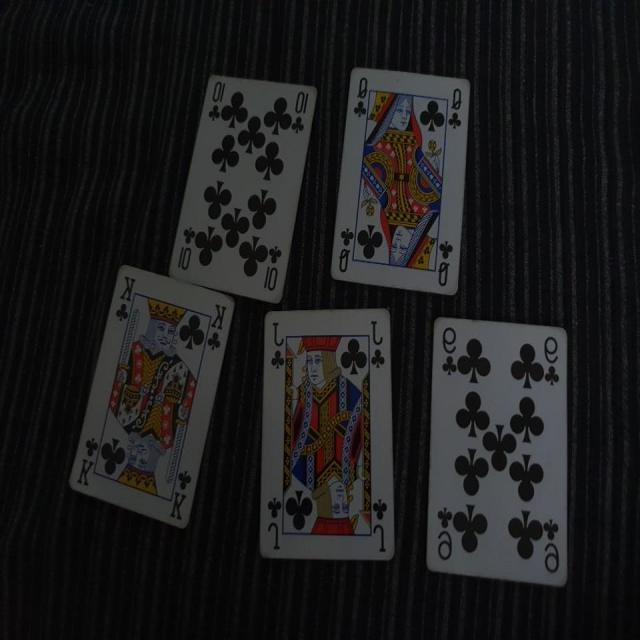10 of clubs: (168, 72, 320, 303)
9 of clubs: (426, 314, 569, 586)
jack of clubs: (255, 307, 398, 564)
king of clubs: (68, 264, 234, 532)
queen of clubs: (328, 66, 471, 298)
